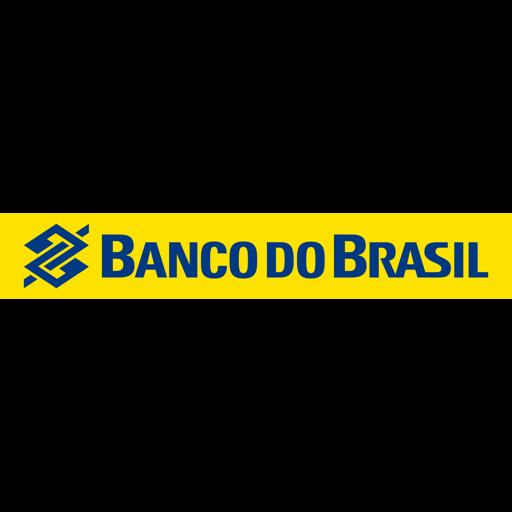Banco do Brasil S-A: (0, 213, 512, 299)
